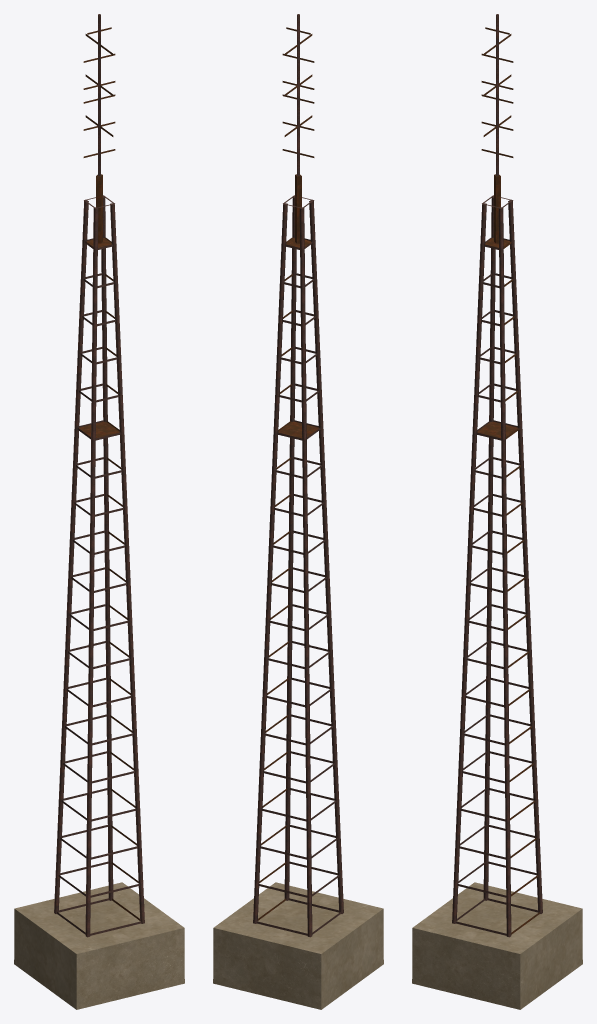
The model's file is SM_Antenne.FBX.
3 views of the same model, side by side, from view 1: azimuth 30°, elevation 25°; view 2: azimuth 150°, elevation 25°; view 3: azimuth 330°, elevation 25° (orthographic).
Parts seen in each view (by area): view 1: SM_Antenne; view 2: SM_Antenne; view 3: SM_Antenne.
Part boxes in pixels (x1,y1,x2,y2): SM_Antenne: (14,14,184,1009); SM_Antenne: (213,14,383,1009); SM_Antenne: (412,14,582,1009).
Size of the model in its own units: 197 by 197 by 1665.
